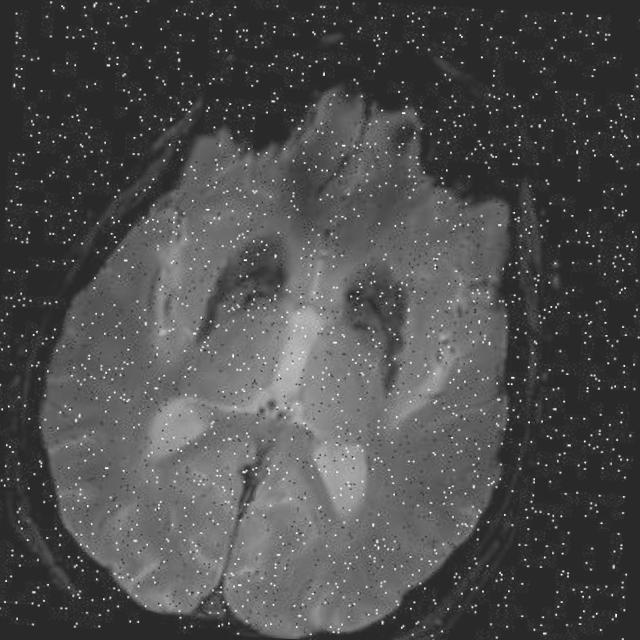EMCI: (322, 228, 451, 386), (216, 222, 302, 338)
